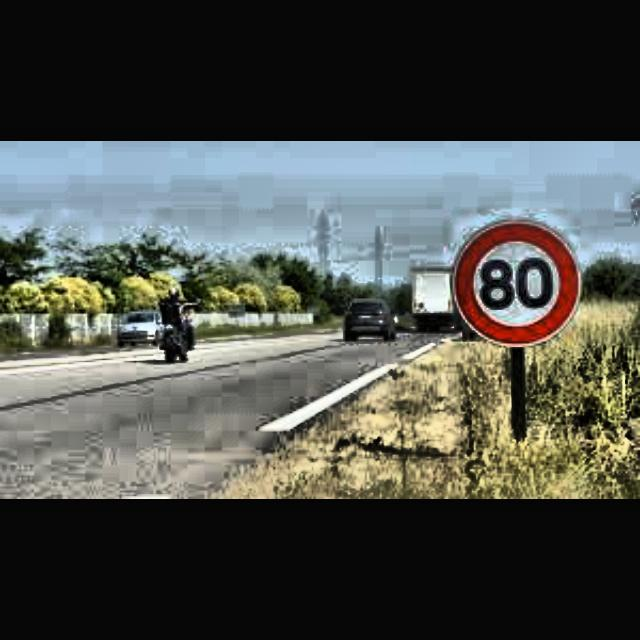speed_80: (453, 222, 579, 340)
